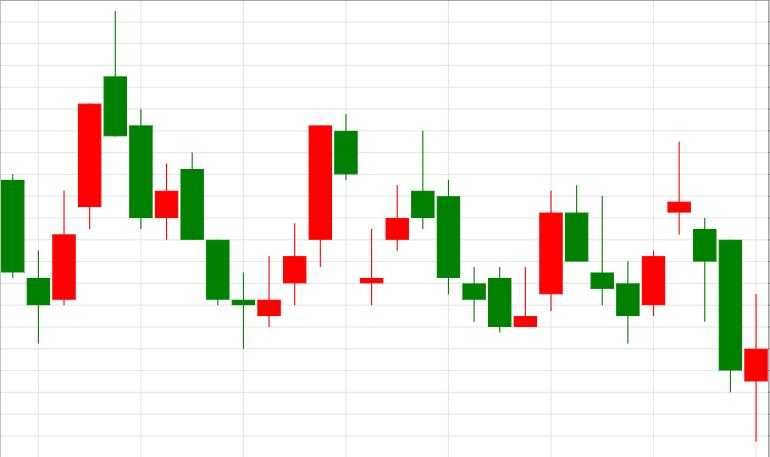three_white_soldiers_rise: (104, 9, 332, 349)
